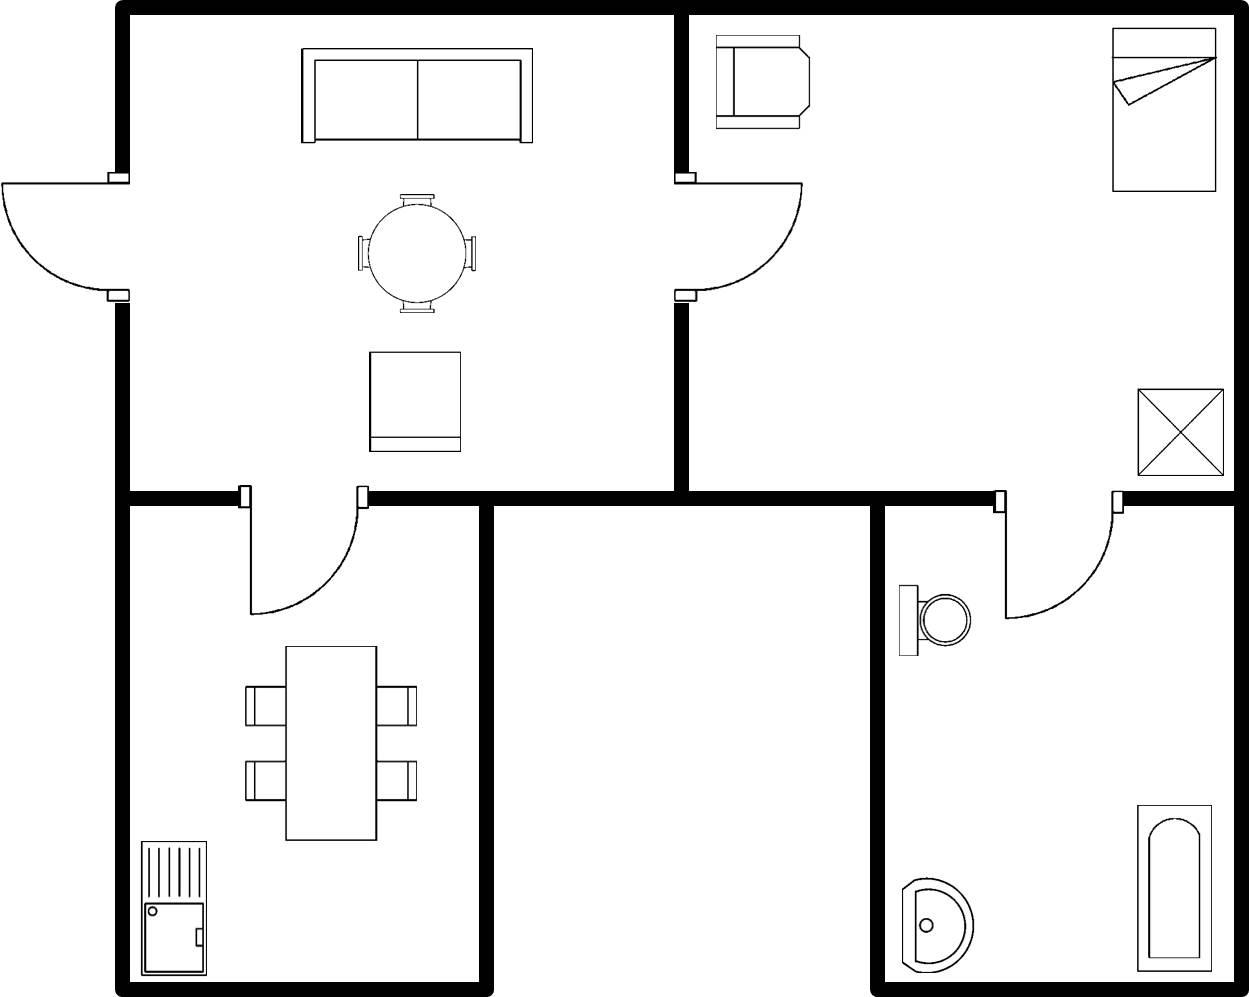bed: (1106, 21, 1223, 197)
dining_table: (237, 638, 422, 847)
round_table: (348, 185, 485, 318)
sink: (135, 833, 215, 980)
sofa: (292, 39, 540, 152)
tub: (1129, 796, 1220, 976)
